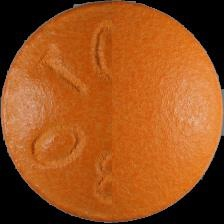54868-4917: (0, 0, 224, 224)
